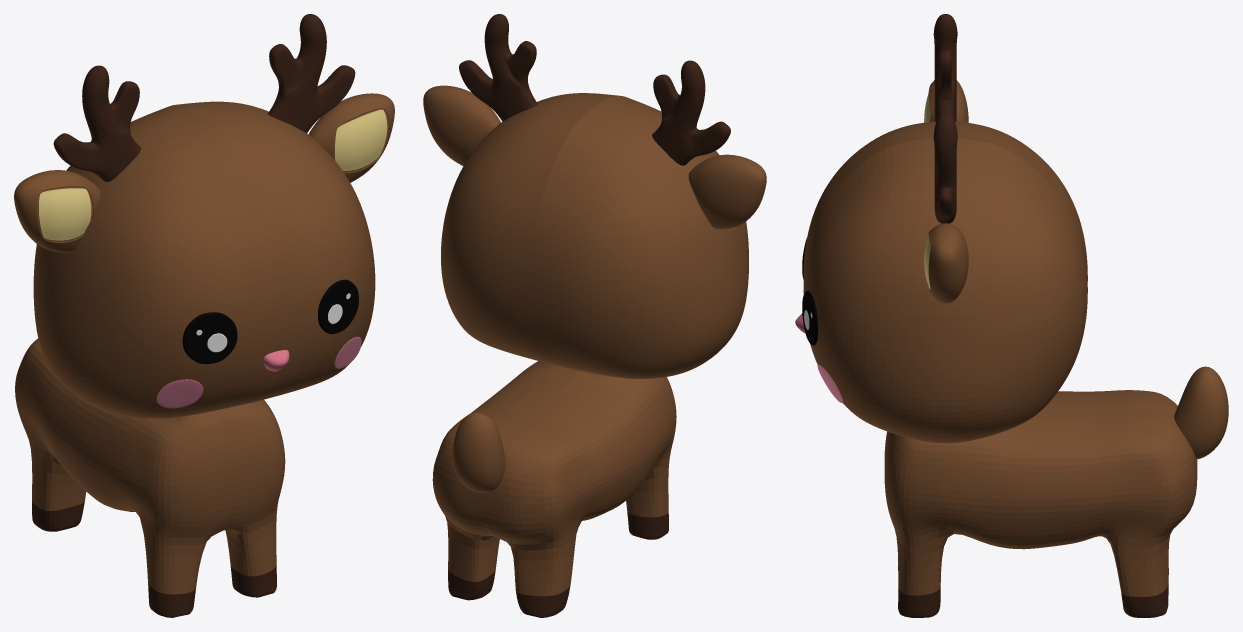
Rendered from 26-06-30_Deer_Sprint3.glb.
3 renders of one model, left to right at view 1: azimuth 30°, elevation 25°; view 2: azimuth 150°, elevation 25°; view 3: azimuth 270°, elevation 25°, orthographic. The views are drawn at different scales.
Visible parts, largest first — view 1: Cube, Cube.001, Cylinder.002, Cube.002, Plane.002, Plane.001, Plane.003; view 2: Cube, Cube.001, Cylinder.002, Cube.002, Cube.003; view 3: Cube, Cube.001, Cylinder.002, Cube.002, Cube.003, Plane.002.
Boxes of the visible parts, left/top/right/bottom form: Cube: left=33, top=101, right=375, bottom=418; Cube.001: left=15, top=338, right=285, bottom=617; Cylinder.002: left=53, top=14, right=355, bottom=181; Cube.002: left=14, top=93, right=394, bottom=252; Plane.002: left=182, top=279, right=358, bottom=364; Plane.001: left=156, top=336, right=361, bottom=408; Plane.003: left=207, top=304, right=342, bottom=352; Cube: left=441, top=93, right=748, bottom=378; Cube.001: left=432, top=361, right=676, bottom=617; Cylinder.002: left=459, top=14, right=730, bottom=165; Cube.002: left=423, top=85, right=766, bottom=229; Cube.003: left=452, top=412, right=505, bottom=492; Cube: left=803, top=121, right=1087, bottom=443; Cube.001: left=884, top=390, right=1197, bottom=617; Cylinder.002: left=933, top=14, right=957, bottom=223; Cube.002: left=924, top=80, right=968, bottom=303; Cube.003: left=1174, top=366, right=1228, bottom=459; Plane.002: left=802, top=238, right=818, bottom=345.
Bounding box in the file's own units: 5.71 × 7.91 × 5.88.
